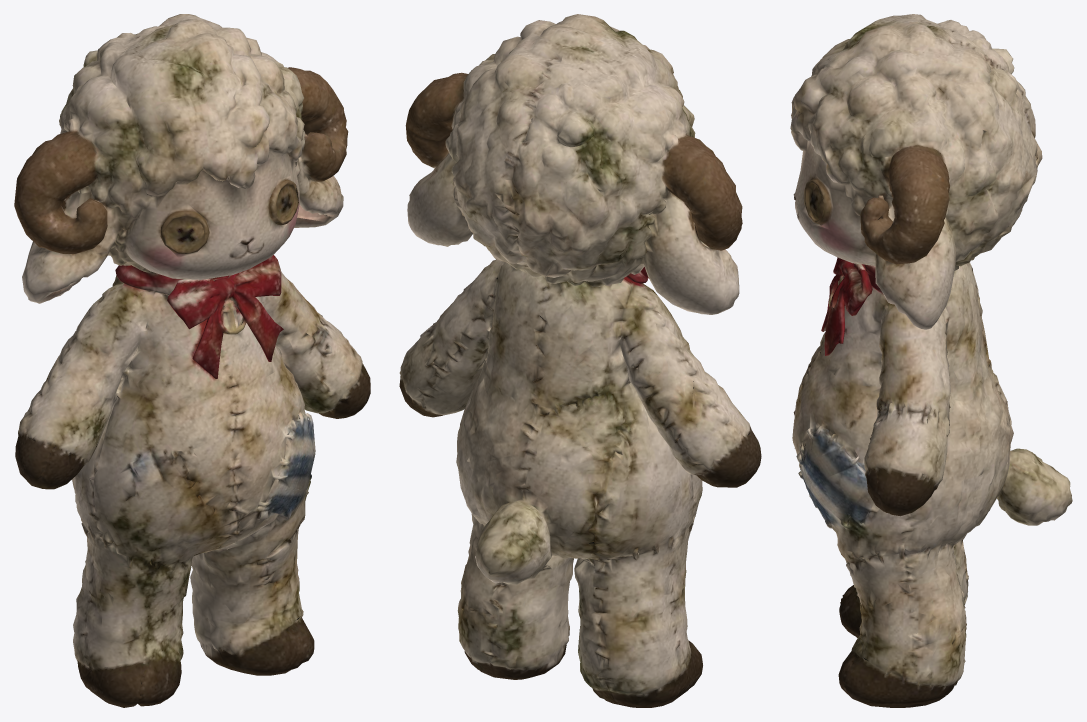
The model's file is agnello_calmo.glb.
3 views of the same model, side by side, from view 1: azimuth 30°, elevation 25°; view 2: azimuth 150°, elevation 25°; view 3: azimuth 270°, elevation 25° (orthographic). The views are drawn at different scales.
Parts seen in each view (by area): view 1: agnello_calmo; view 2: agnello_calmo; view 3: agnello_calmo.
Part boxes in pixels (x1,y1,x2,y2): agnello_calmo: (14, 14, 370, 707); agnello_calmo: (399, 14, 761, 707); agnello_calmo: (790, 14, 1072, 707).
Size of the model in its own units: 0.6772 by 1.2 by 0.482.
Materials: 1 (1 with a texture image).
